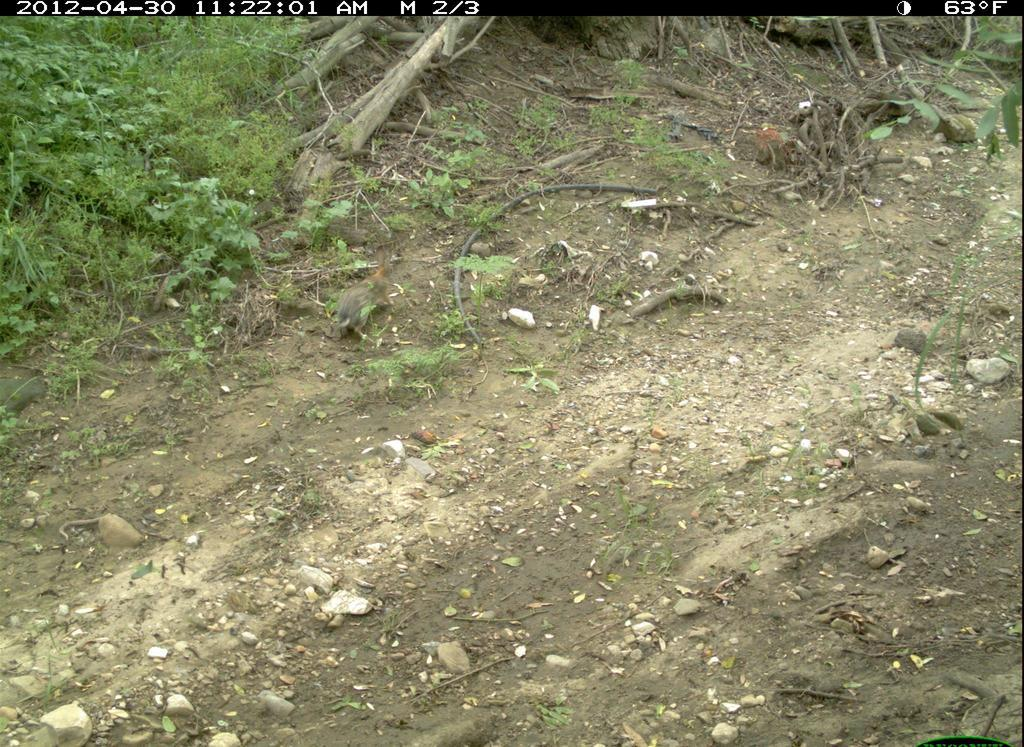rabbit: (323, 242, 402, 345)
